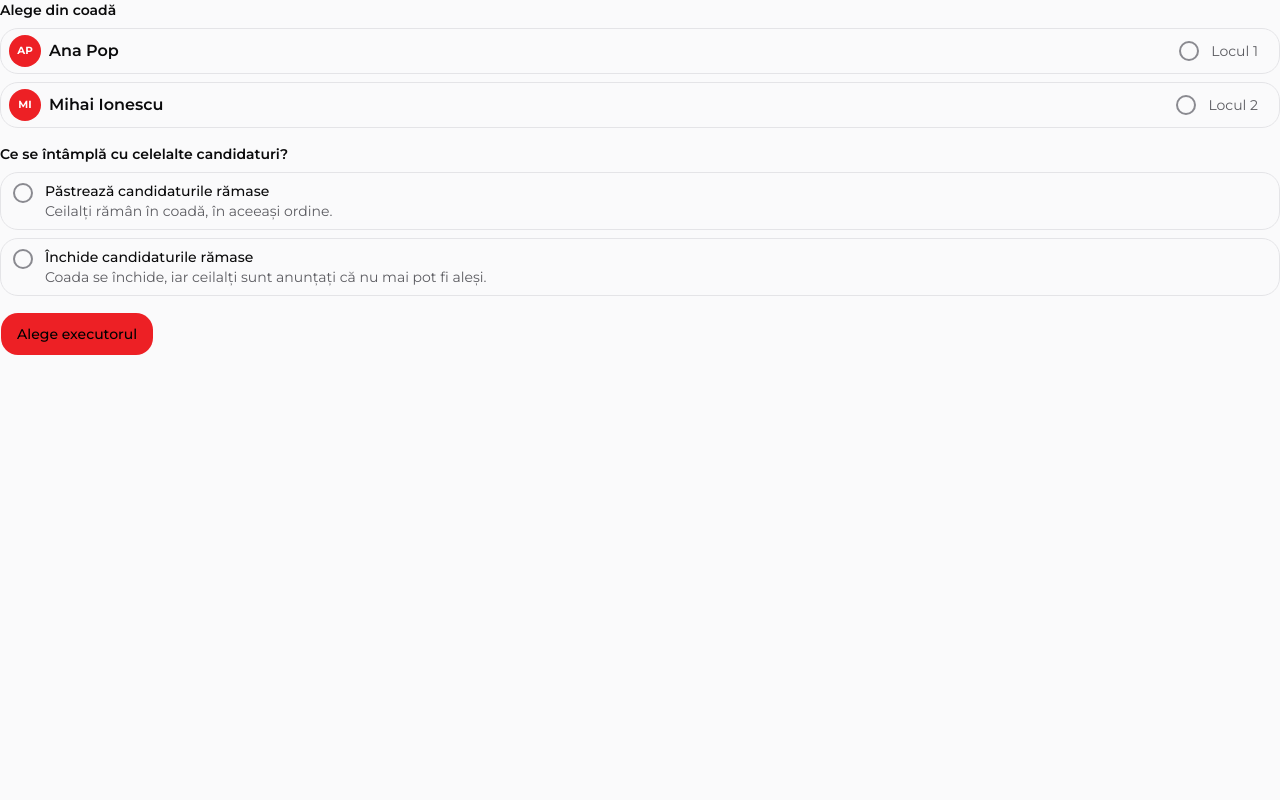
Test: Task candidate selector › requires one queued candidate and selects them without closing the queue
Note: Never a silent confirm (Audit D-16): each missing choice is named.
Click the button "Alege executorul" at (77, 334), box [0,312,154,356]
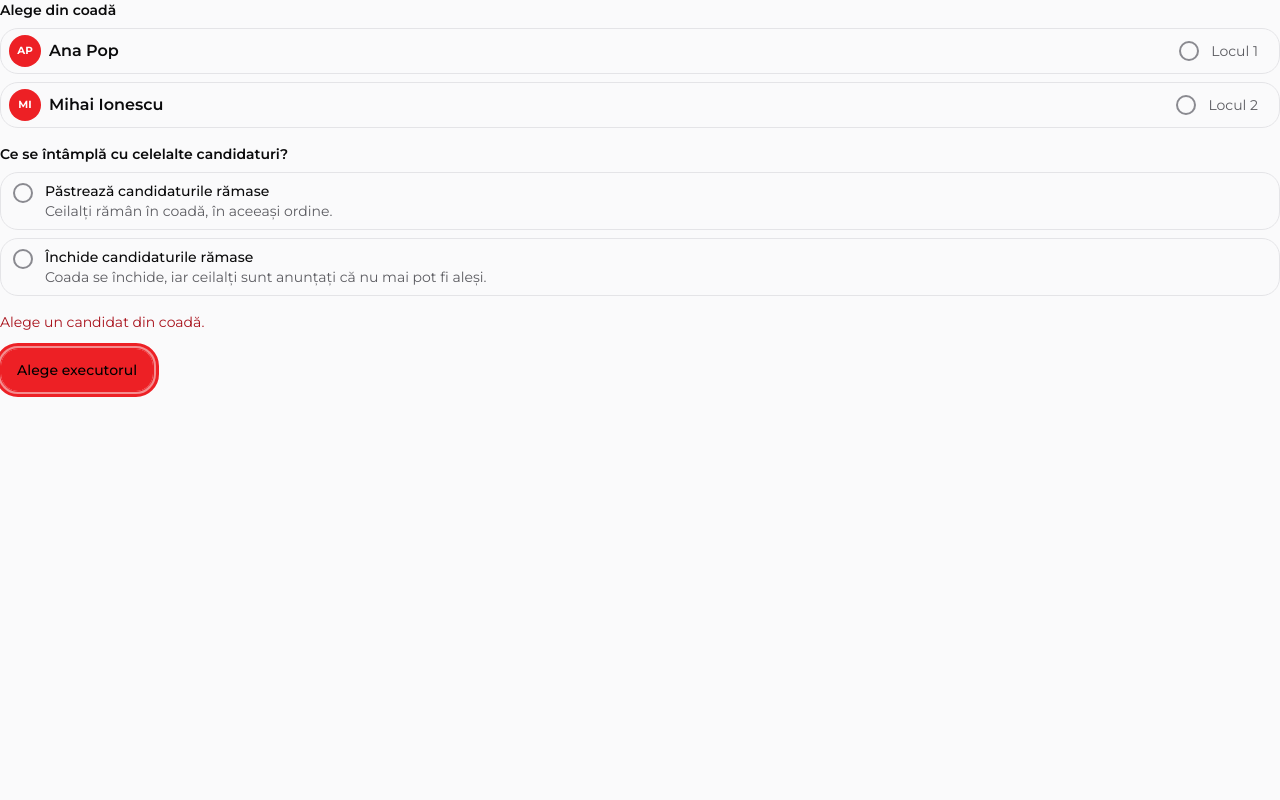
Now the message reads "Alege un candidat din coadă.", box [0,313,204,331]
Click the radio button named "Ana Pop" at (1189, 51), box [1179,41,1199,61]
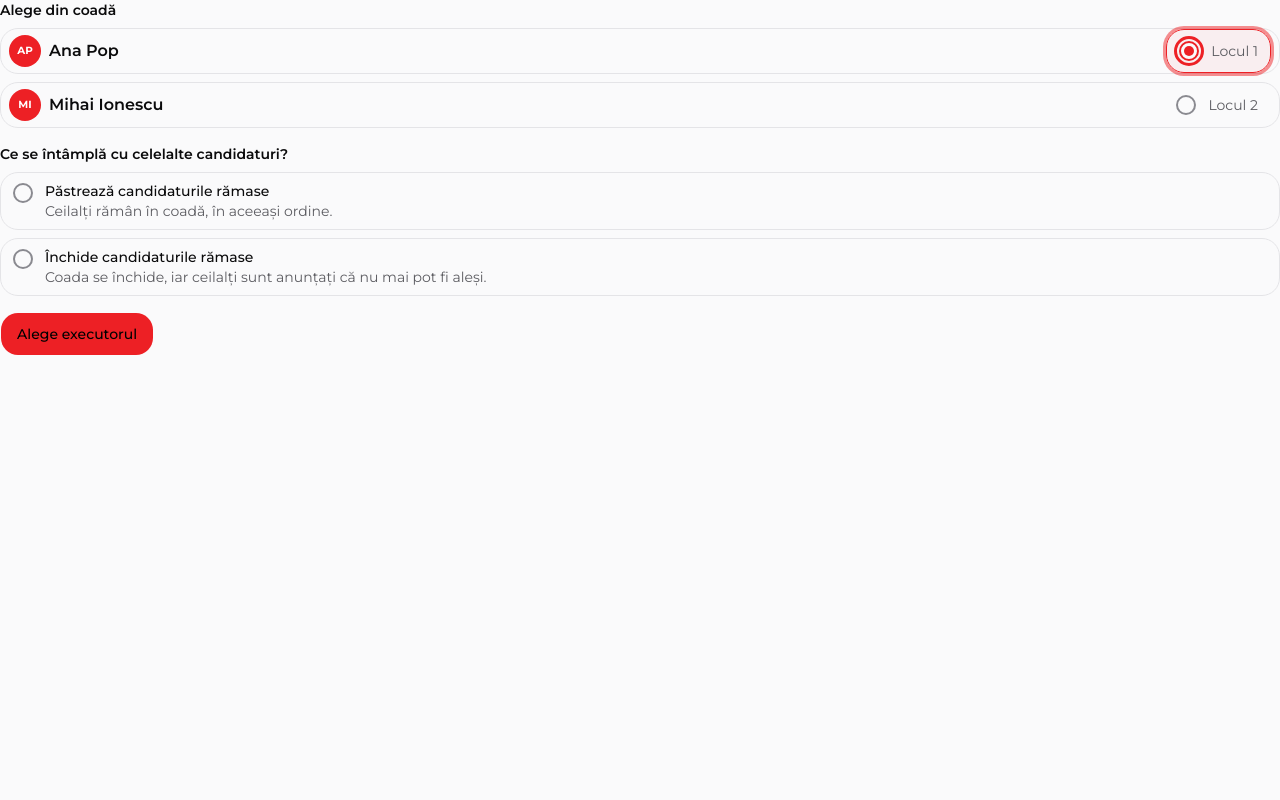
Click the button "Alege executorul" at (77, 334), box [0,312,154,356]
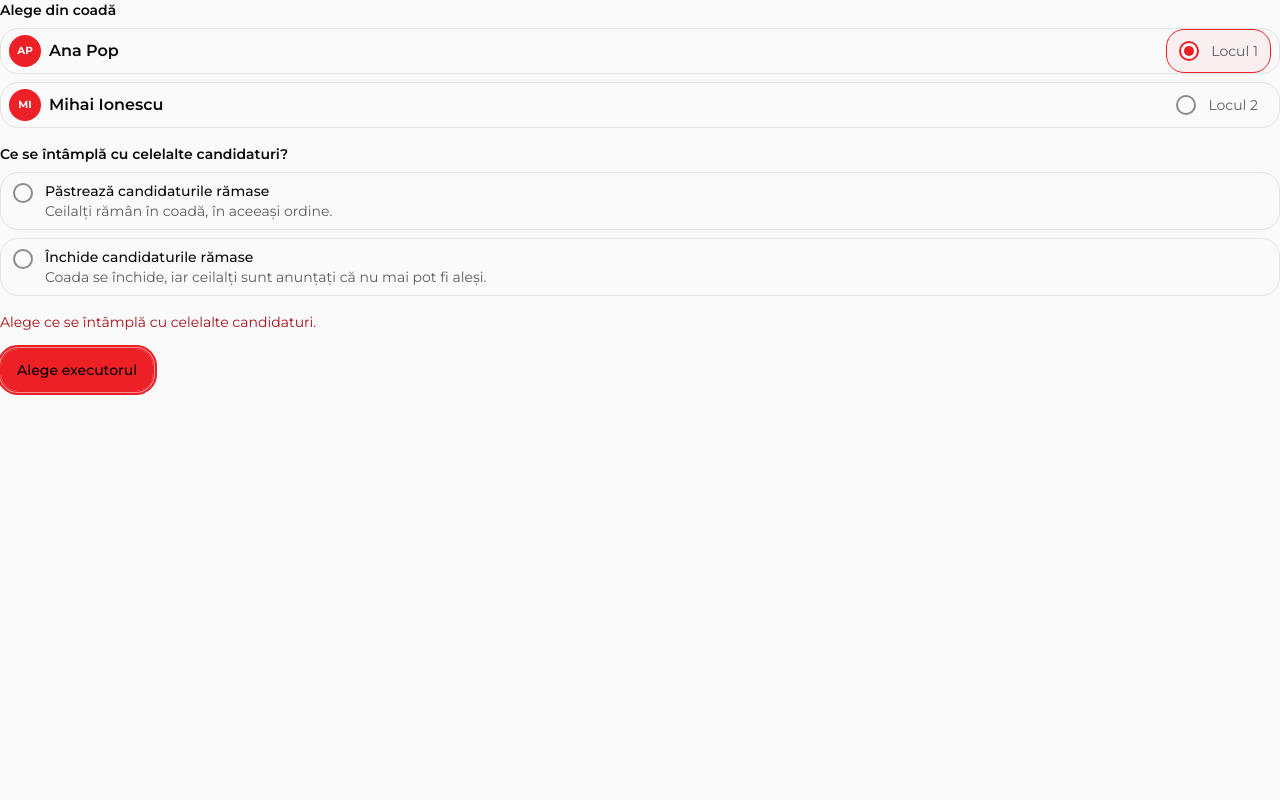
Now the message reads "Alege ce se întâmplă cu celelalte candidaturi.", box [0,313,316,331]
Click the radio button named "Păstrează candidaturile rămase" next to "Păstrează candidaturile rămase" at (23, 193), box [13,183,33,203]
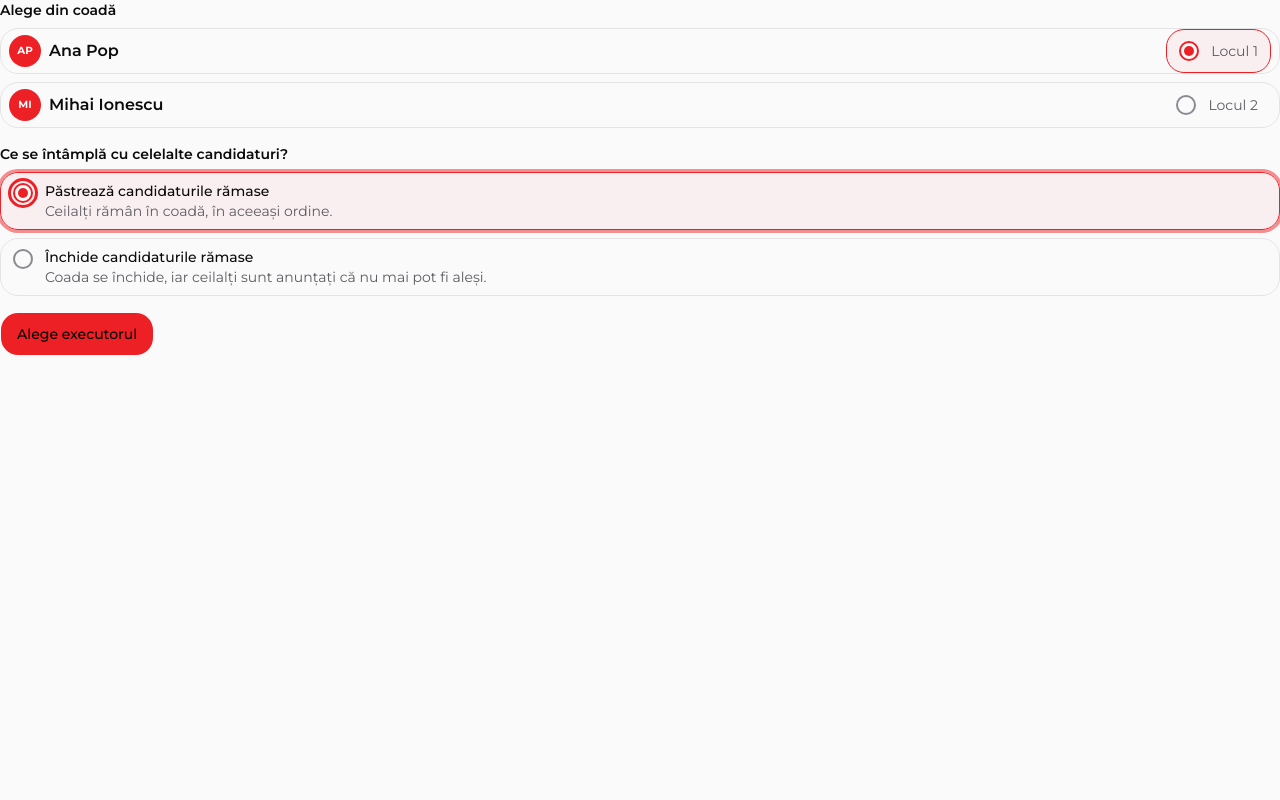
Click the button "Alege executorul" at (77, 334), box [0,312,154,356]
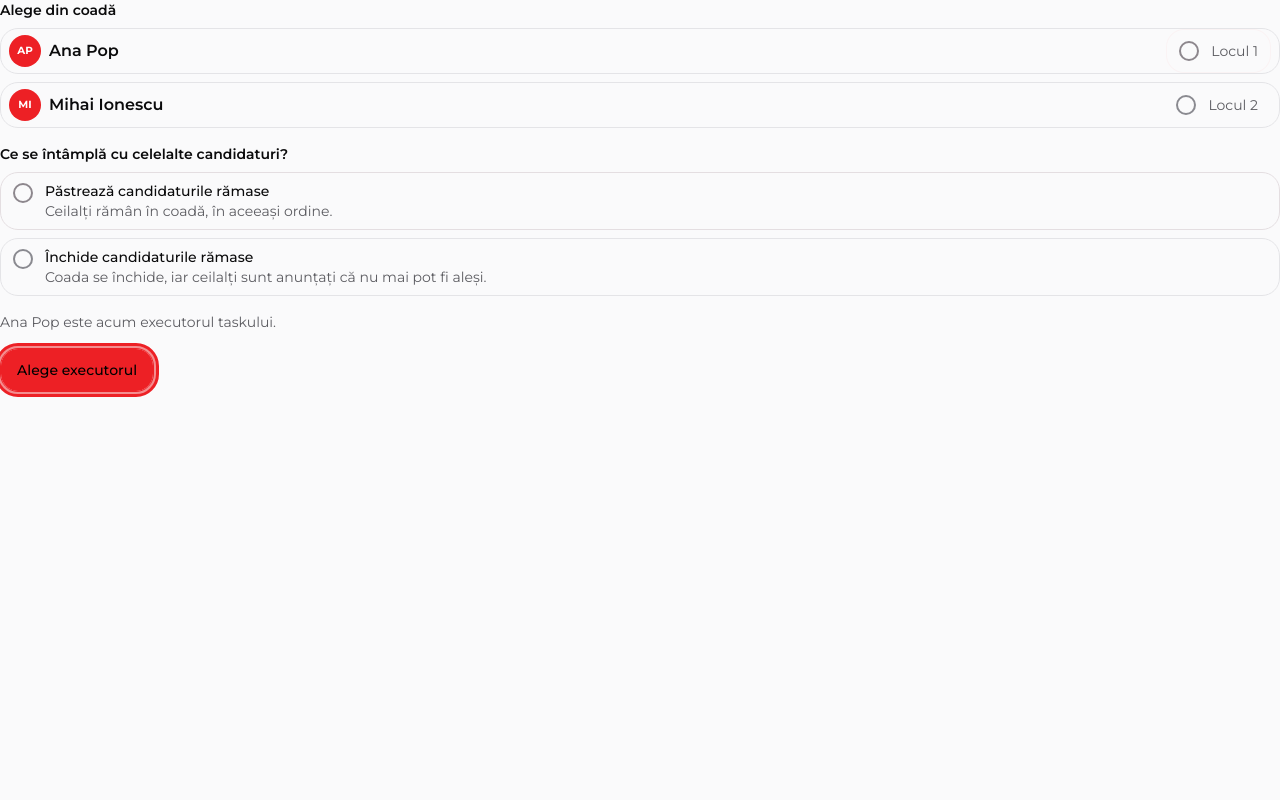
Now the message reads "Ana Pop este acum executorul taskului.", box [0,313,276,331]
